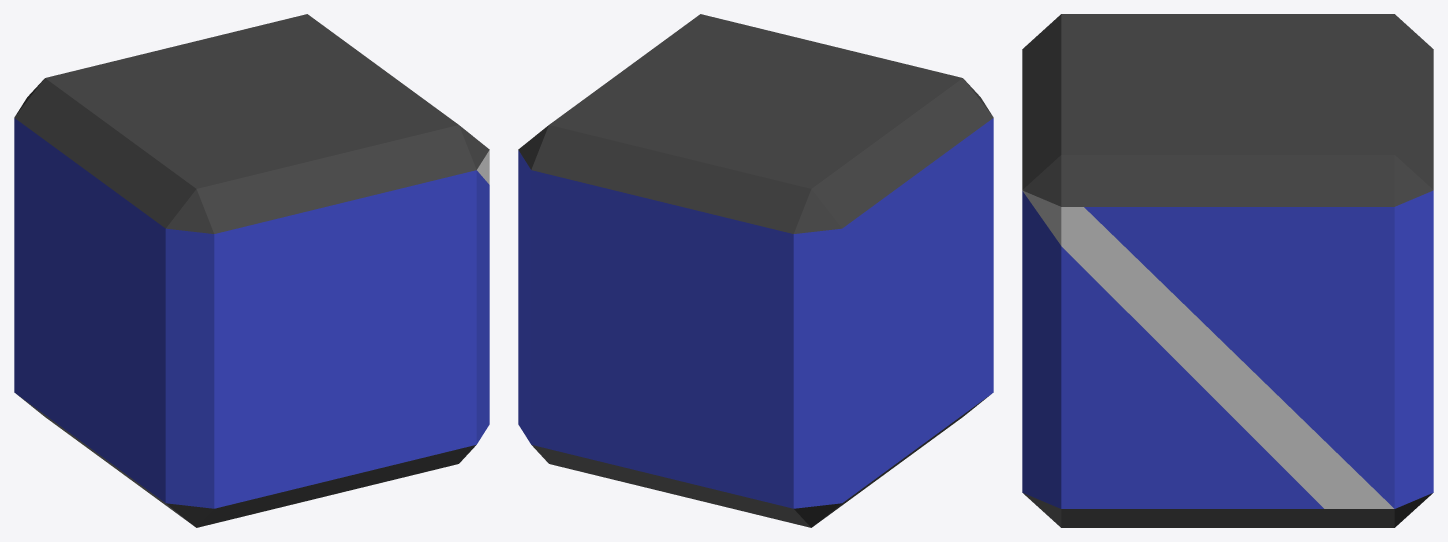
File: BigCase4.fbx
3 renders of one model, left to right at view 1: azimuth 30°, elevation 25°; view 2: azimuth 150°, elevation 25°; view 3: azimuth 270°, elevation 25°, orthographic. The views are drawn at different scales.
Visible parts, largest first — view 1: Cube.036; view 2: Cube.036; view 3: Cube.036.
Part boxes in pixels (left/top/right/bottom): Cube.036: left=14, top=14, right=489, bottom=527; Cube.036: left=518, top=14, right=993, bottom=527; Cube.036: left=1022, top=14, right=1433, bottom=527.
Bounding box in the file's own units: 72.28 × 72.28 × 72.28.
